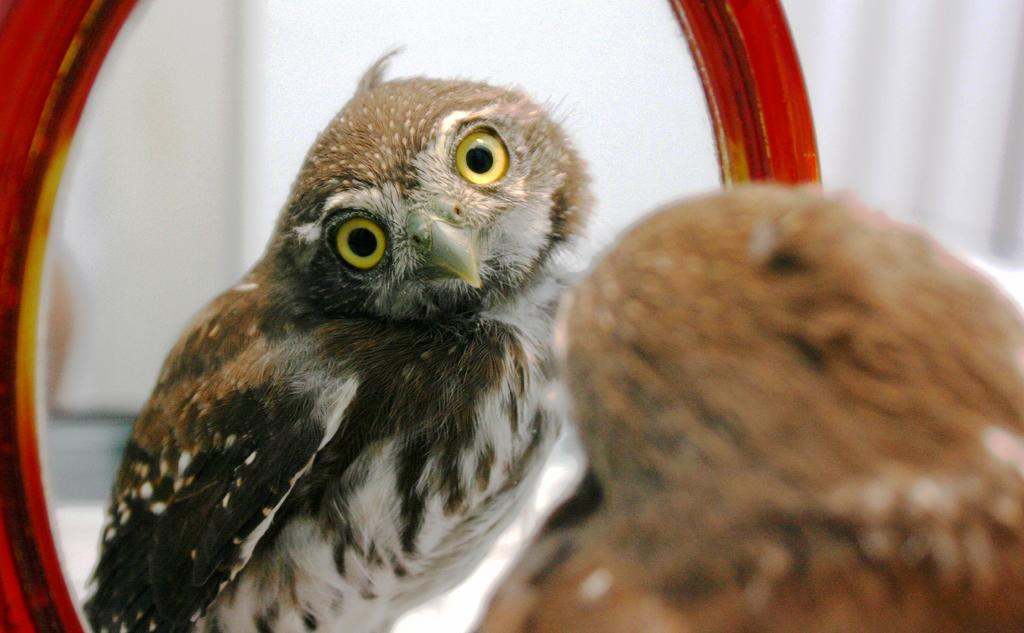Owl: (81, 57, 599, 632)
